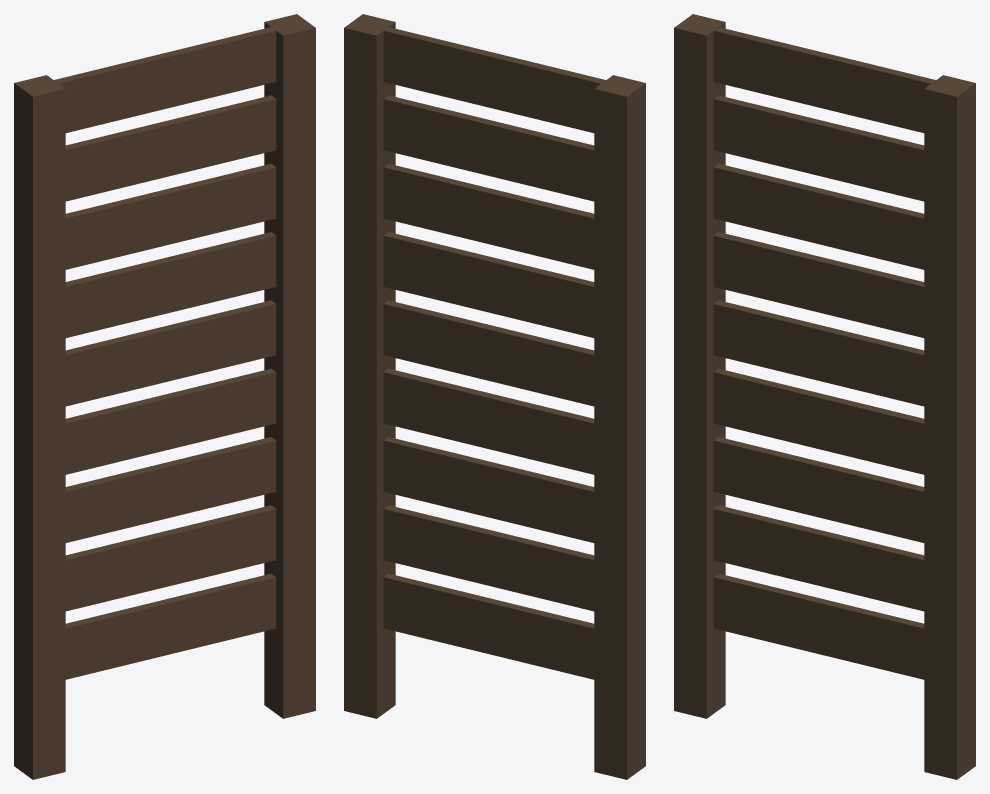
File: SM_Lot_GapFence_Louver_520_01.gltf
The picture shows the model from 3 angles, left to right: view 1: azimuth 30°, elevation 25°; view 2: azimuth 150°, elevation 25°; view 3: azimuth 330°, elevation 25°; orthographic projection.
Visible parts, largest first — view 1: SM_Lot_GapFence_Louver_520_01; view 2: SM_Lot_GapFence_Louver_520_01; view 3: SM_Lot_GapFence_Louver_520_01.
Part boxes in pixels (left/top/right/bottom): SM_Lot_GapFence_Louver_520_01: left=14, top=14, right=315, bottom=779; SM_Lot_GapFence_Louver_520_01: left=344, top=14, right=645, bottom=779; SM_Lot_GapFence_Louver_520_01: left=674, top=14, right=975, bottom=779.
Bounding box in the file's own units: 0.52 × 1.2 × 0.06.
Materials: 1 (1 with a texture image).
